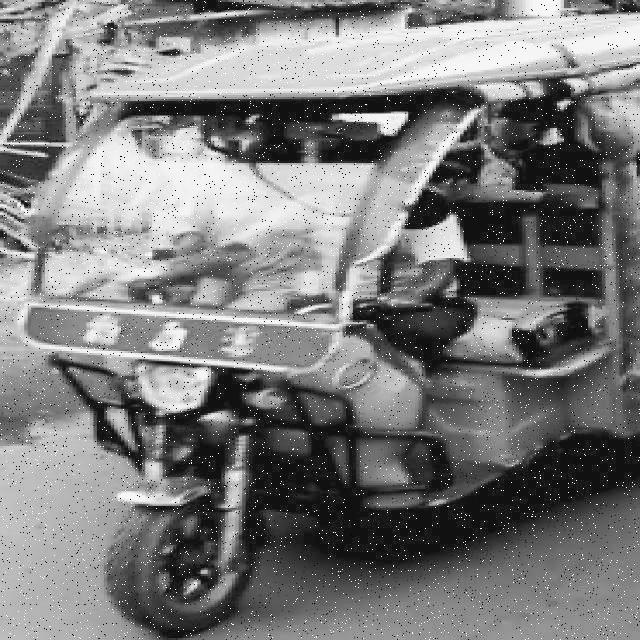Toto: (13, 6, 640, 629)
